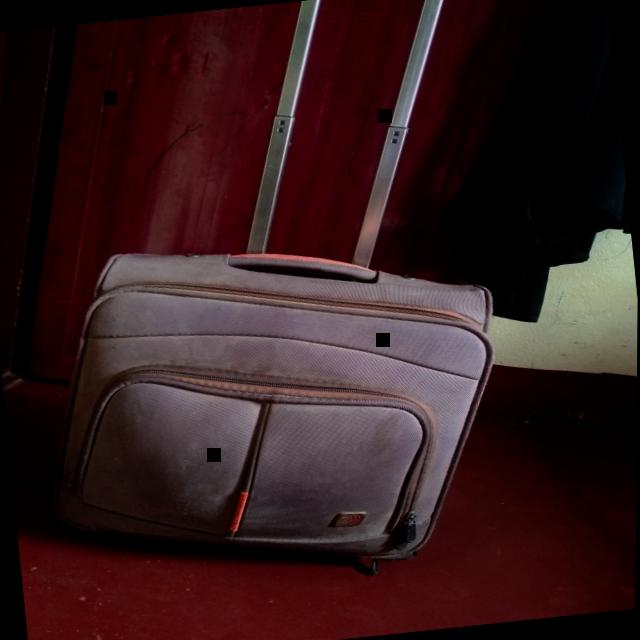luggage: (53, 253, 495, 569)
